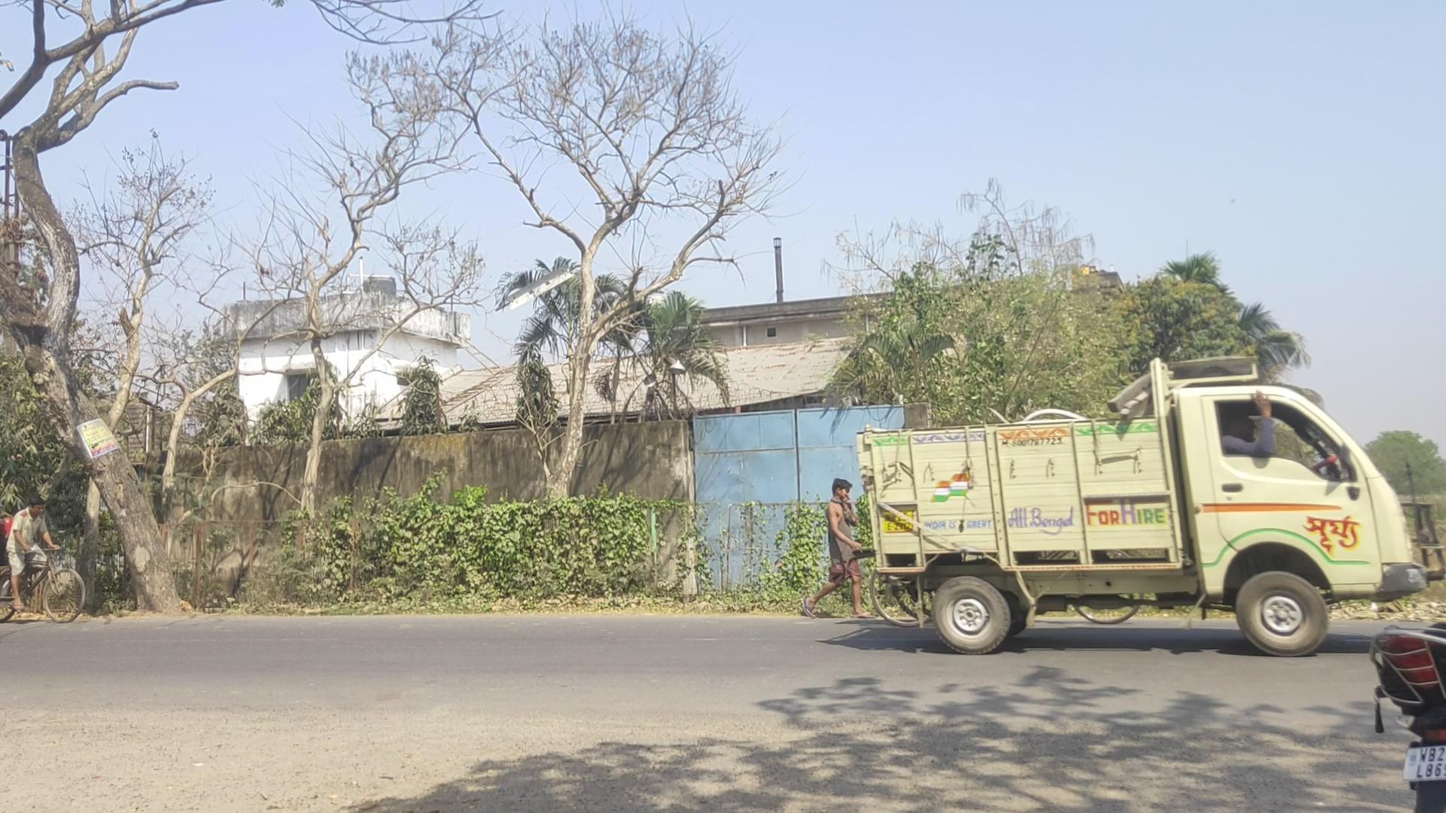van: (856, 355, 1436, 658)
